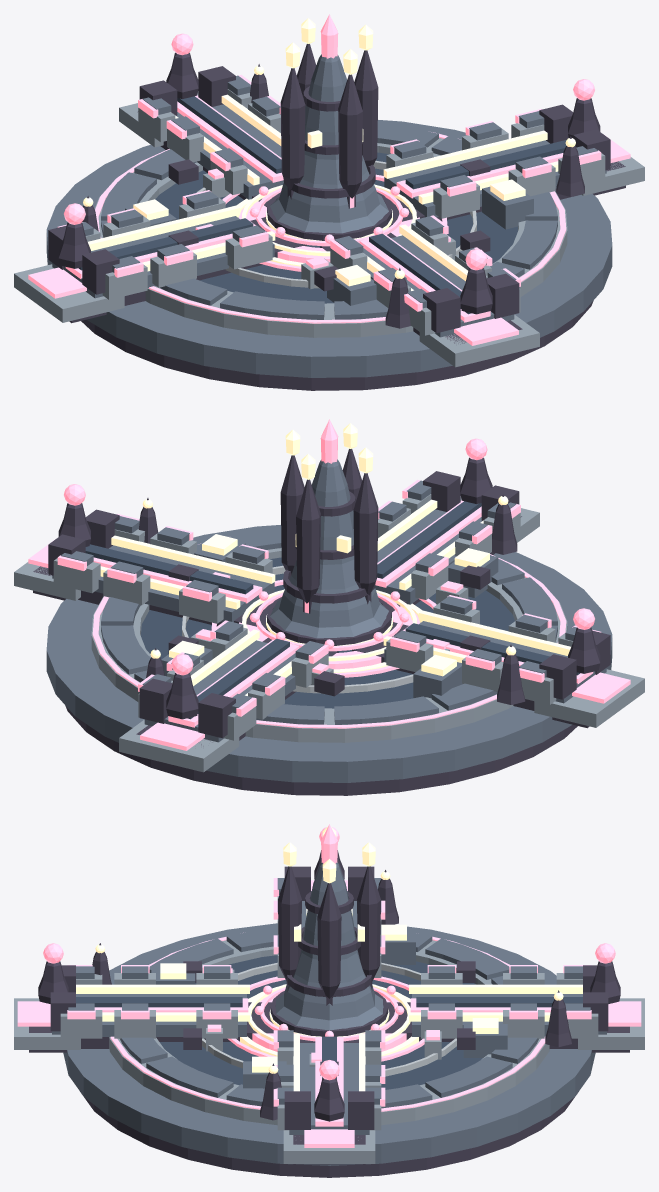
The model's file is base_mars.glb.
3 views of the same model, one above another, from view 1: azimuth 30°, elevation 25°; view 2: azimuth 150°, elevation 25°; view 3: azimuth 270°, elevation 25° (orthographic). The views are drawn at different scales.
Visible parts, largest first — view 1: MATERIAL_gunmetal, MATERIAL_obsidian, MATERIAL_steel, MATERIAL_red, MATERIAL_hot_red, MATERIAL_dark, MATERIAL_silver; view 2: MATERIAL_gunmetal, MATERIAL_obsidian, MATERIAL_steel, MATERIAL_red, MATERIAL_hot_red, MATERIAL_dark, MATERIAL_silver; view 3: MATERIAL_gunmetal, MATERIAL_obsidian, MATERIAL_steel, MATERIAL_red, MATERIAL_hot_red, MATERIAL_dark, MATERIAL_silver.
Boxes of the visible parts, x1,y1,x2,y2 form: MATERIAL_gunmetal: (46,54,612,377); MATERIAL_obsidian: (48,44,625,390); MATERIAL_steel: (14,89,644,367); MATERIAL_red: (28,14,630,345); MATERIAL_hot_red: (83,18,575,290); MATERIAL_dark: (78,96,566,314); MATERIAL_silver: (196,160,476,288); MATERIAL_gunmetal: (46,459,612,782); MATERIAL_obsidian: (33,449,610,795); MATERIAL_steel: (14,494,644,772); MATERIAL_red: (28,419,630,750); MATERIAL_hot_red: (100,423,570,695); MATERIAL_dark: (85,501,580,719); MATERIAL_silver: (182,565,413,693); MATERIAL_gunmetal: (52,862,606,1165); MATERIAL_obsidian: (29,850,629,1177); MATERIAL_steel: (14,895,644,1163); MATERIAL_red: (17,824,641,1147); MATERIAL_hot_red: (76,827,582,1091); MATERIAL_dark: (76,955,582,1089); MATERIAL_silver: (202,962,456,1076).
Size of the model in its own units: 11.5 by 4.95 by 11.5.
